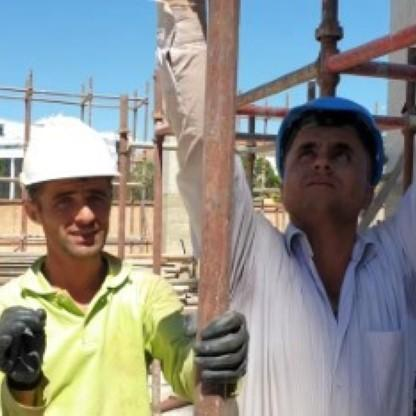helmet: (262, 105, 391, 252), (16, 107, 121, 277)
